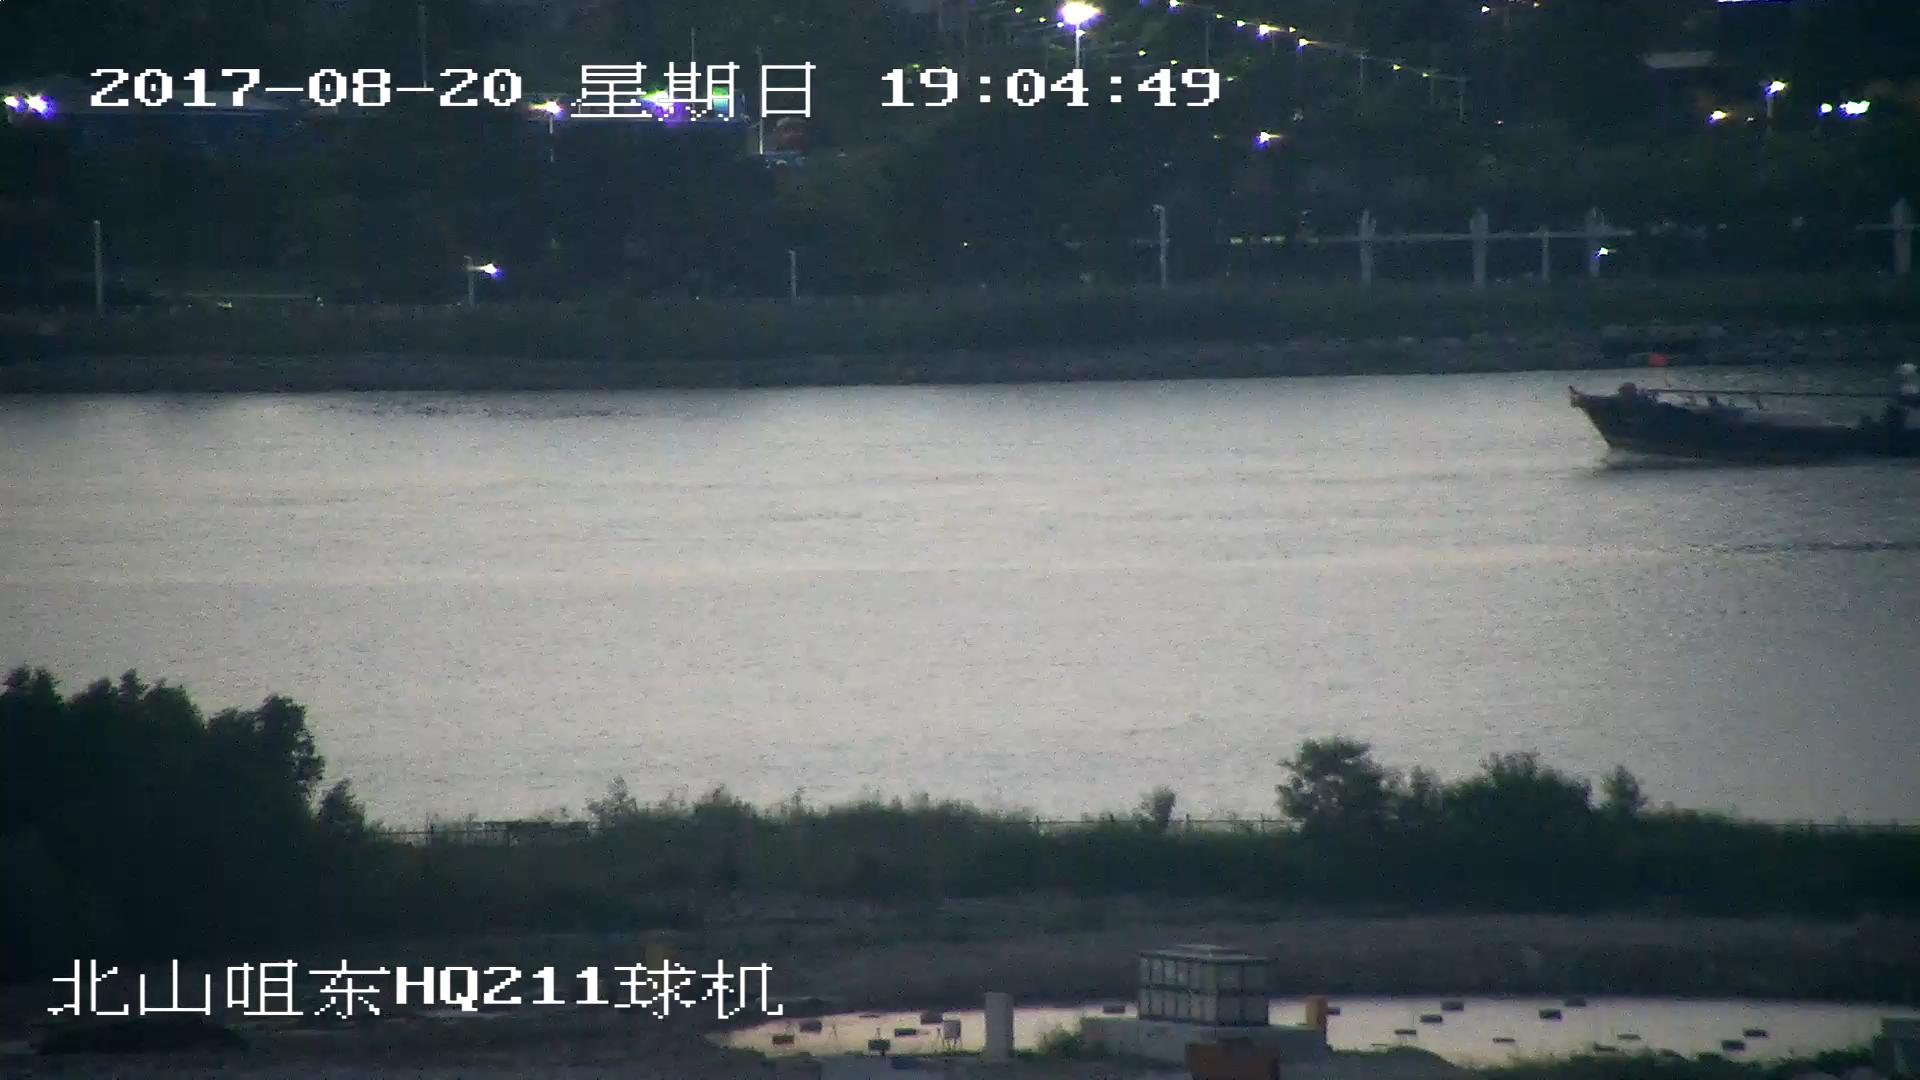fishing boat: (1569, 367, 1920, 467)
